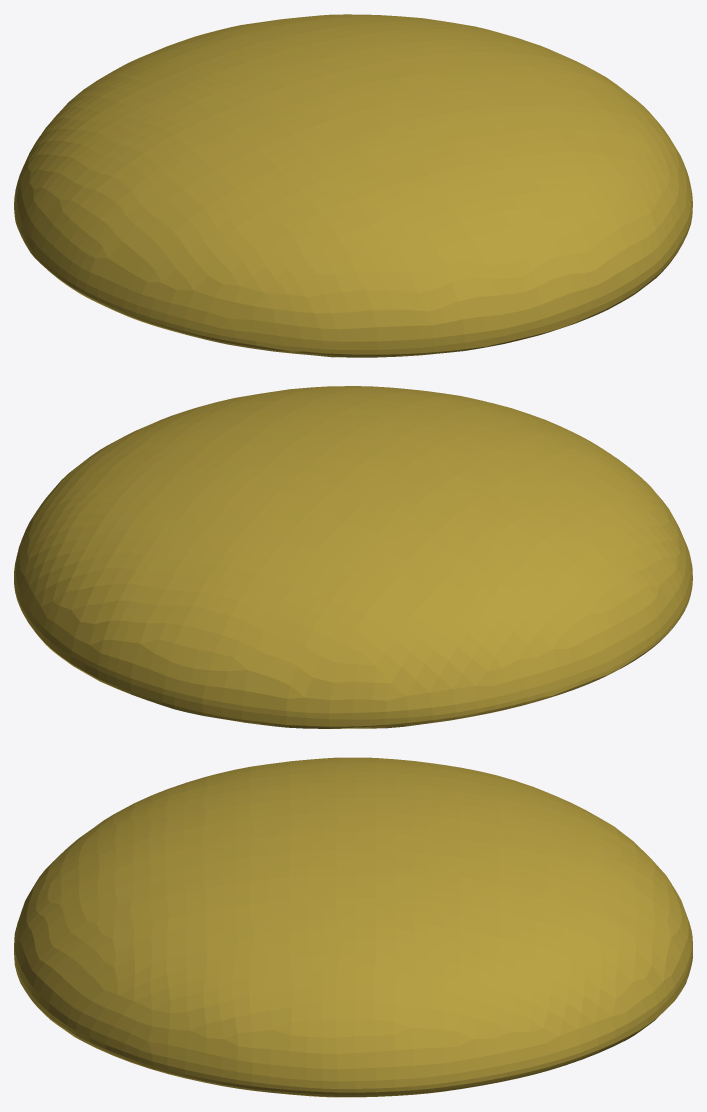
Rendered from Top of bun.fbx.
3 renders of one model, top to bottom at view 1: azimuth 30°, elevation 25°; view 2: azimuth 150°, elevation 25°; view 3: azimuth 270°, elevation 25°, orthographic.
Visible parts, largest first — view 1: top_of_bun1; view 2: top_of_bun1; view 3: top_of_bun1.
Part boxes in pixels (left/top/right/bottom): top_of_bun1: left=14, top=14, right=692, bottom=357; top_of_bun1: left=14, top=386, right=692, bottom=728; top_of_bun1: left=14, top=757, right=692, bottom=1097.
Size of the model in its own units: 5.8 by 1.28 by 5.8.
